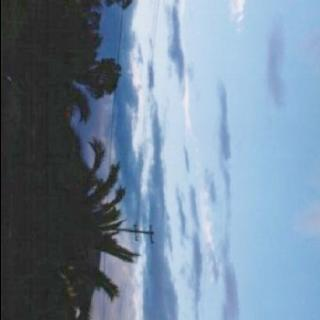Stratocumulus: (107, 0, 320, 320)
